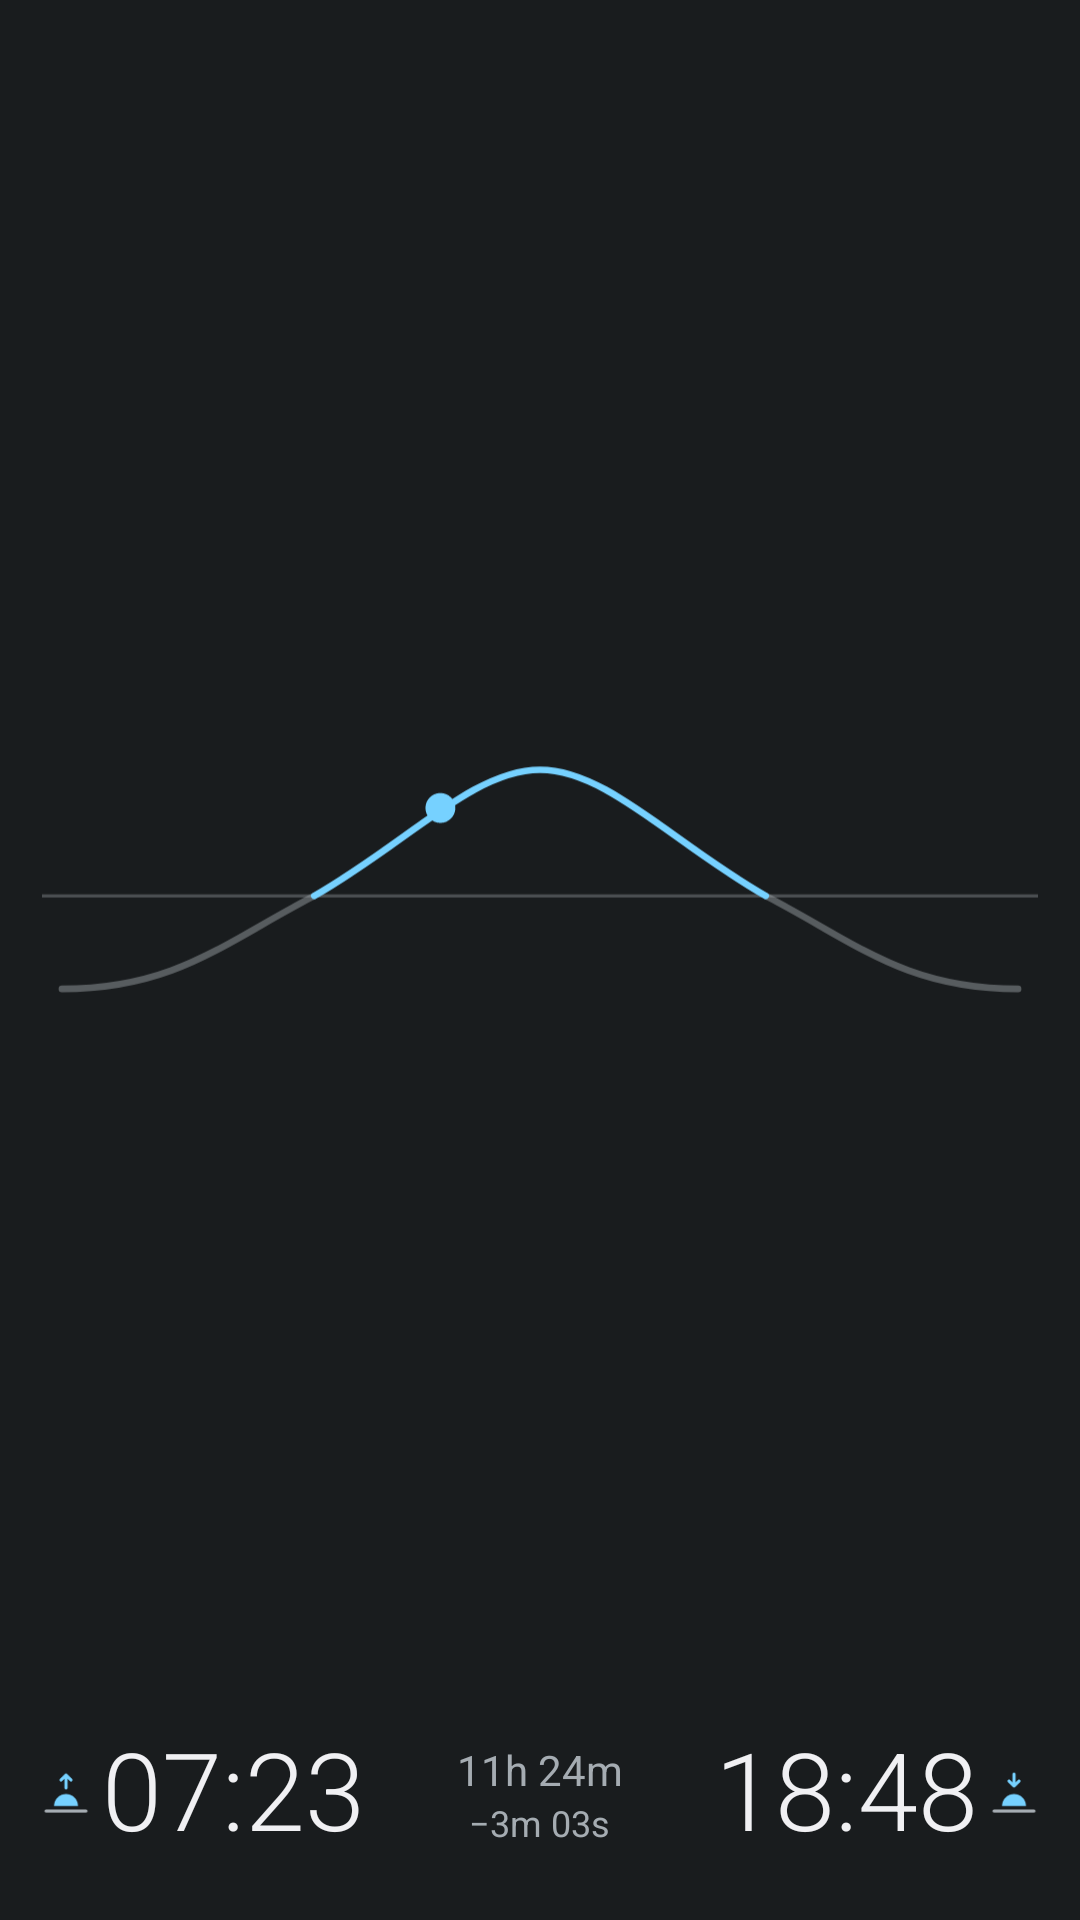

Where icons sit on this 1080w x 1920h app screen, as (x1, y1, x2, y2):
sunrise: (44, 1773, 88, 1813)
sunset: (992, 1772, 1036, 1813)
